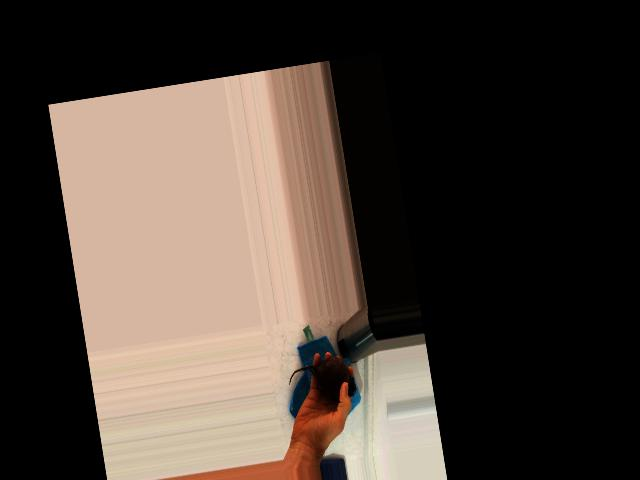beet: (285, 353, 357, 409)
